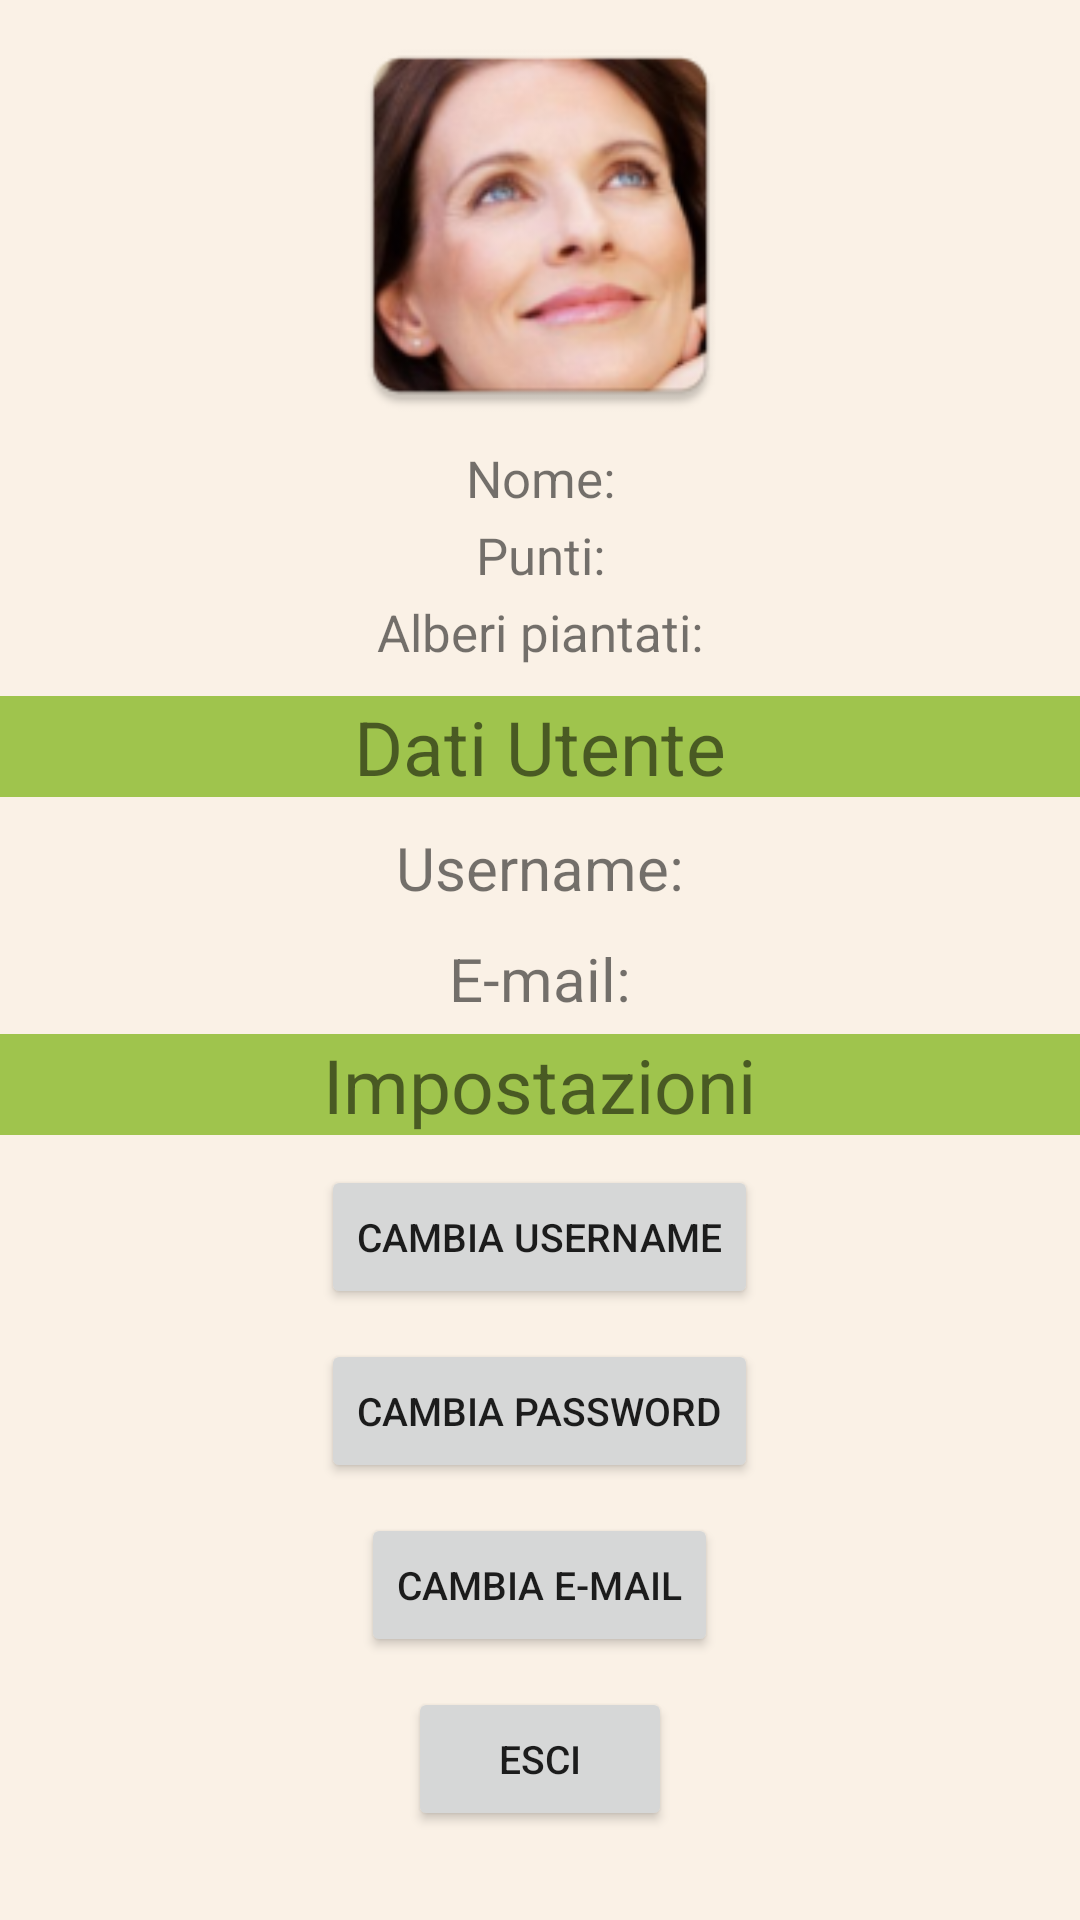

Point at icon controls on the screen. Image size 1080*1920, points as [x,y].
immagine profilo: [540,229]
